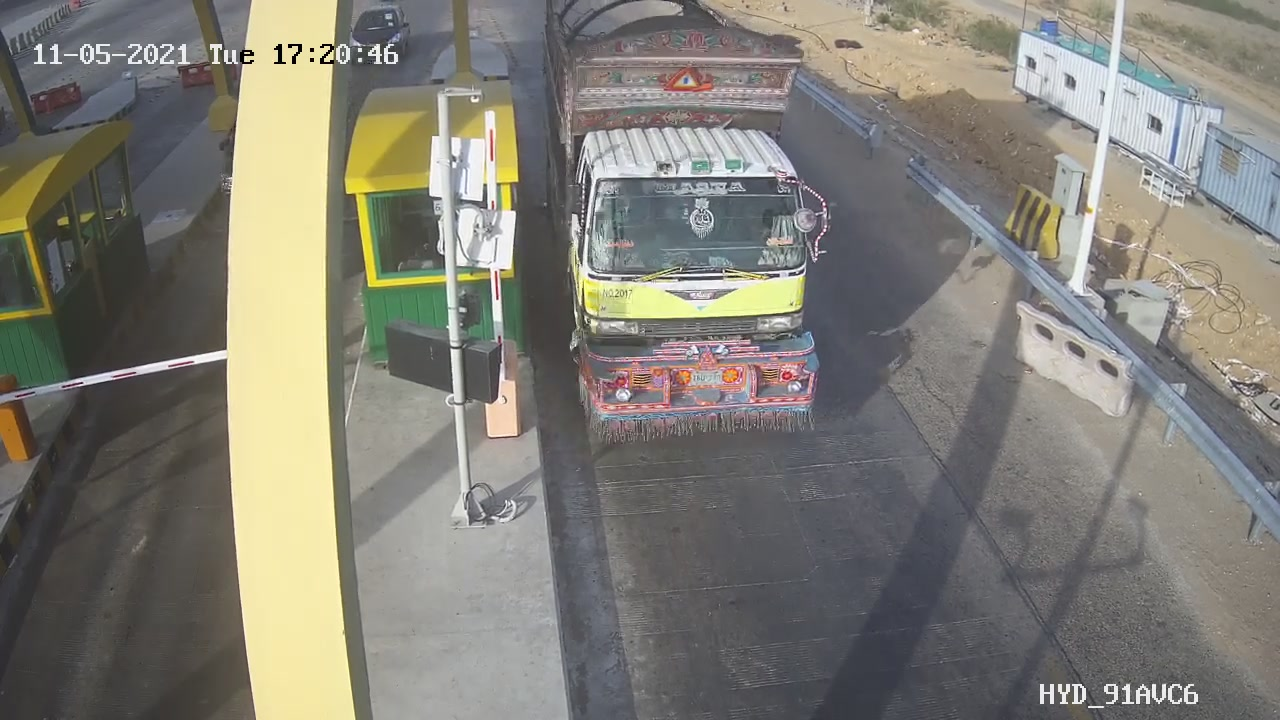F6: (527, 5, 865, 457)
